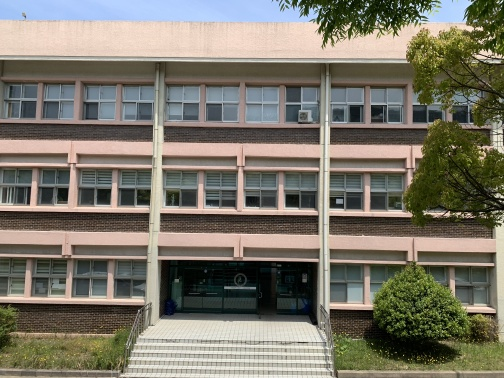College Of Education: (4, 17, 499, 375), (149, 239, 321, 328)
